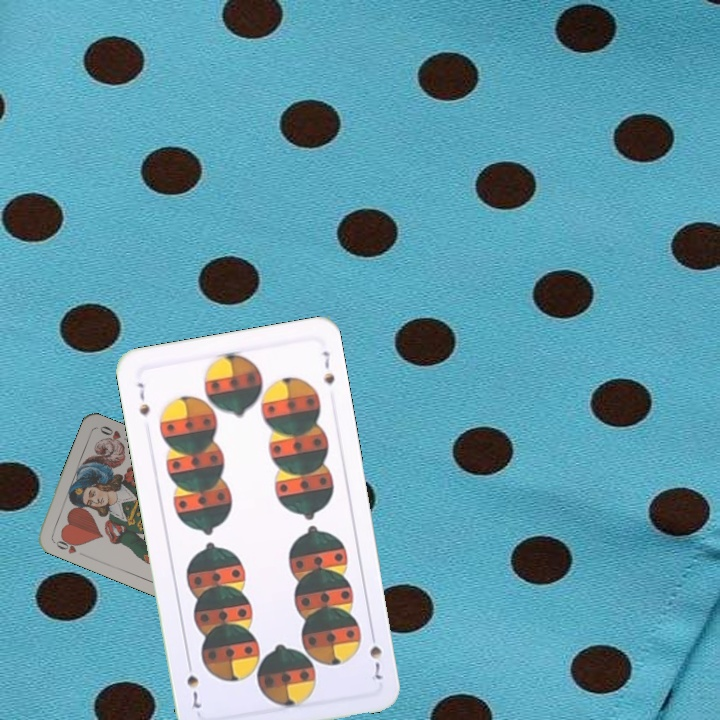HO: (49, 532, 88, 559)
S7: (365, 626, 385, 682), (133, 378, 152, 419)
